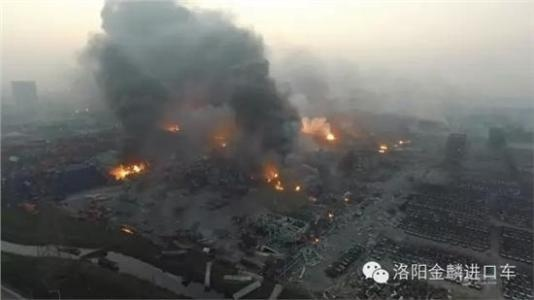fire: (109, 158, 145, 179), (265, 168, 283, 190), (164, 121, 180, 132)
